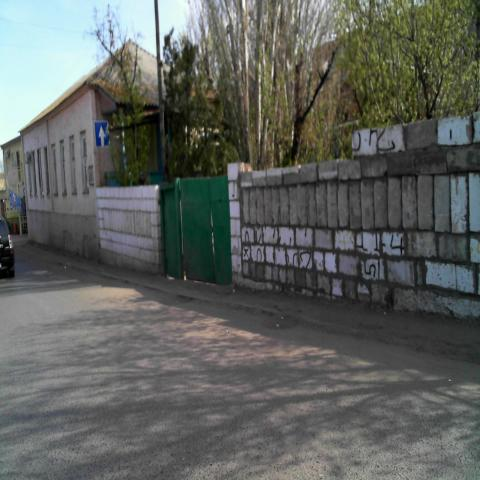5_5: (94, 120, 110, 149)
